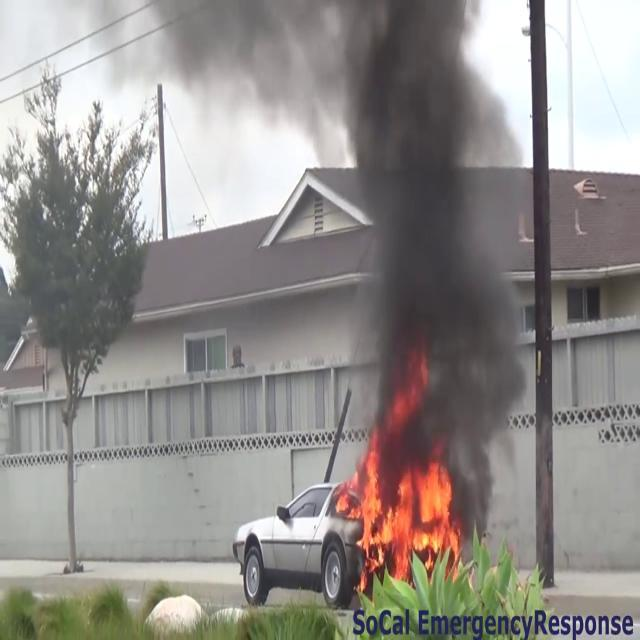Fire: (344, 442, 461, 583)
Smoke: (336, 0, 534, 476)
